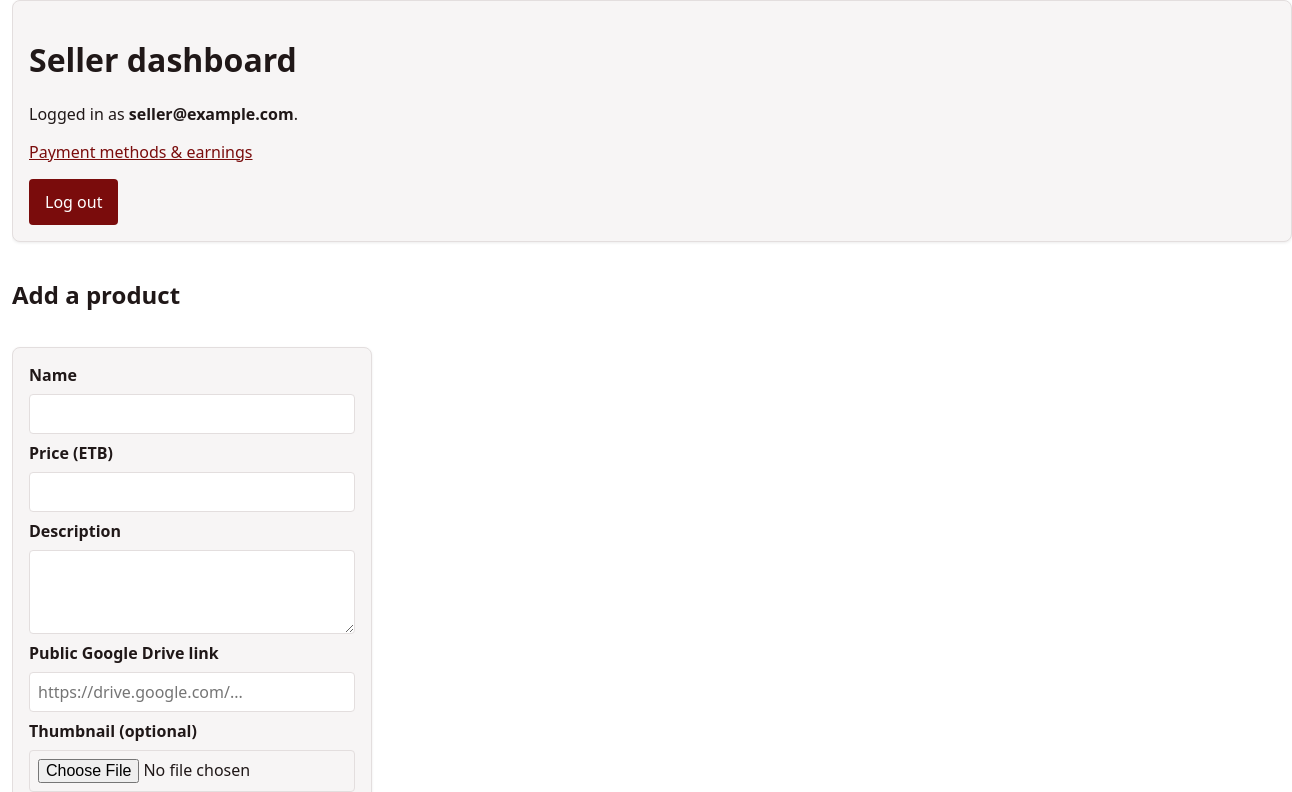
it: SellerHome › shows the backend's message when adding a product fails (non-auth error)
Type "E-book: Learn Amharic" into the field labelled "Name" at (192, 414), box [29,394,355,434]
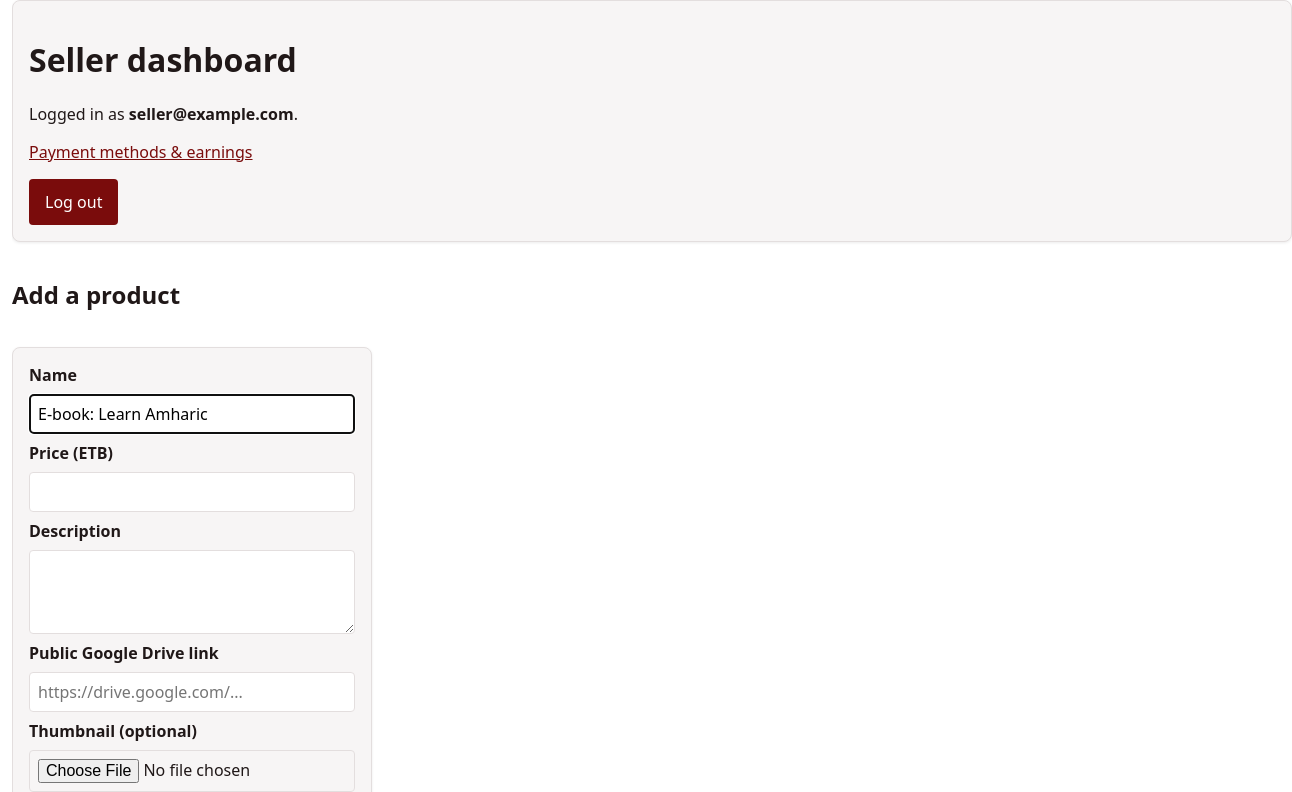
Type "150" into the number field labelled "Price (ETB)" at (192, 492), box [29,472,355,512]
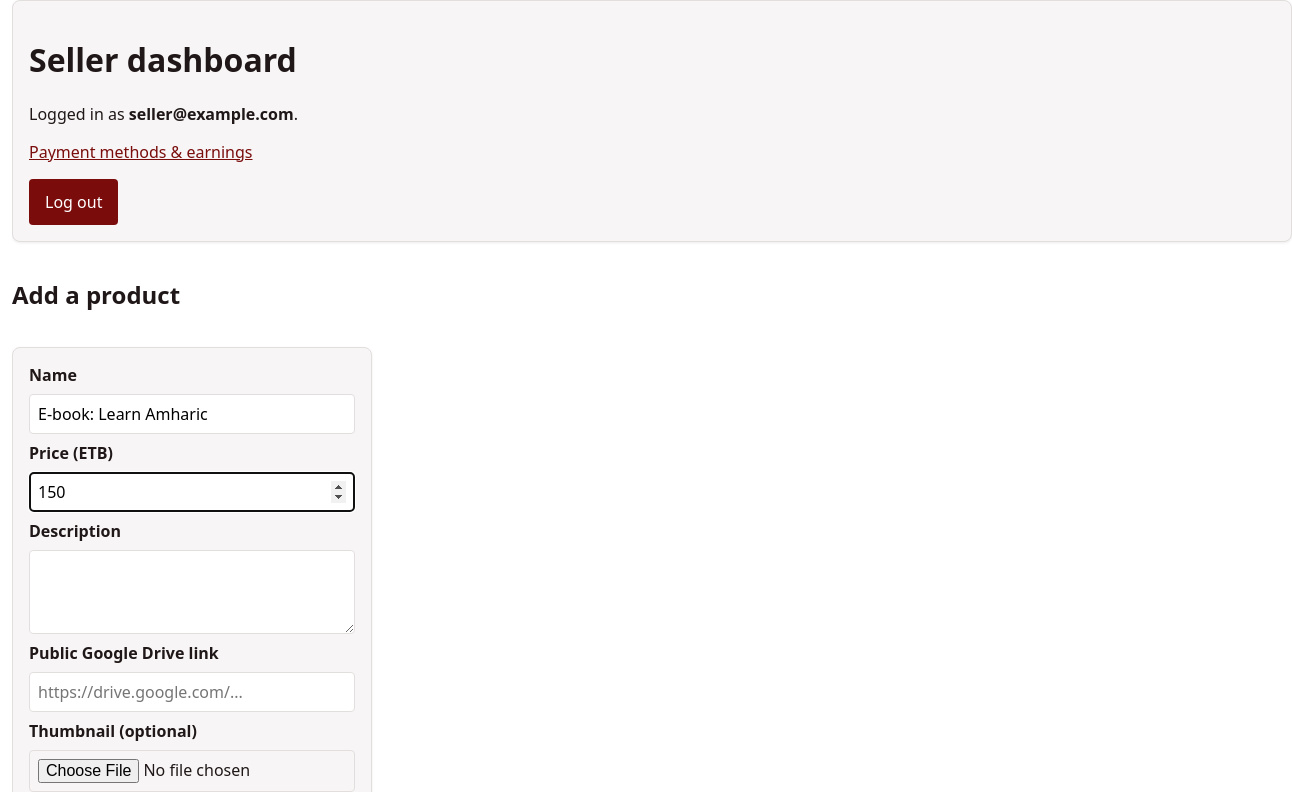
Type "https://drive.google.com/file/d/abc" into the field labelled "Public Google Drive link" at (192, 692), box [29,672,355,712]
(page scrolled)
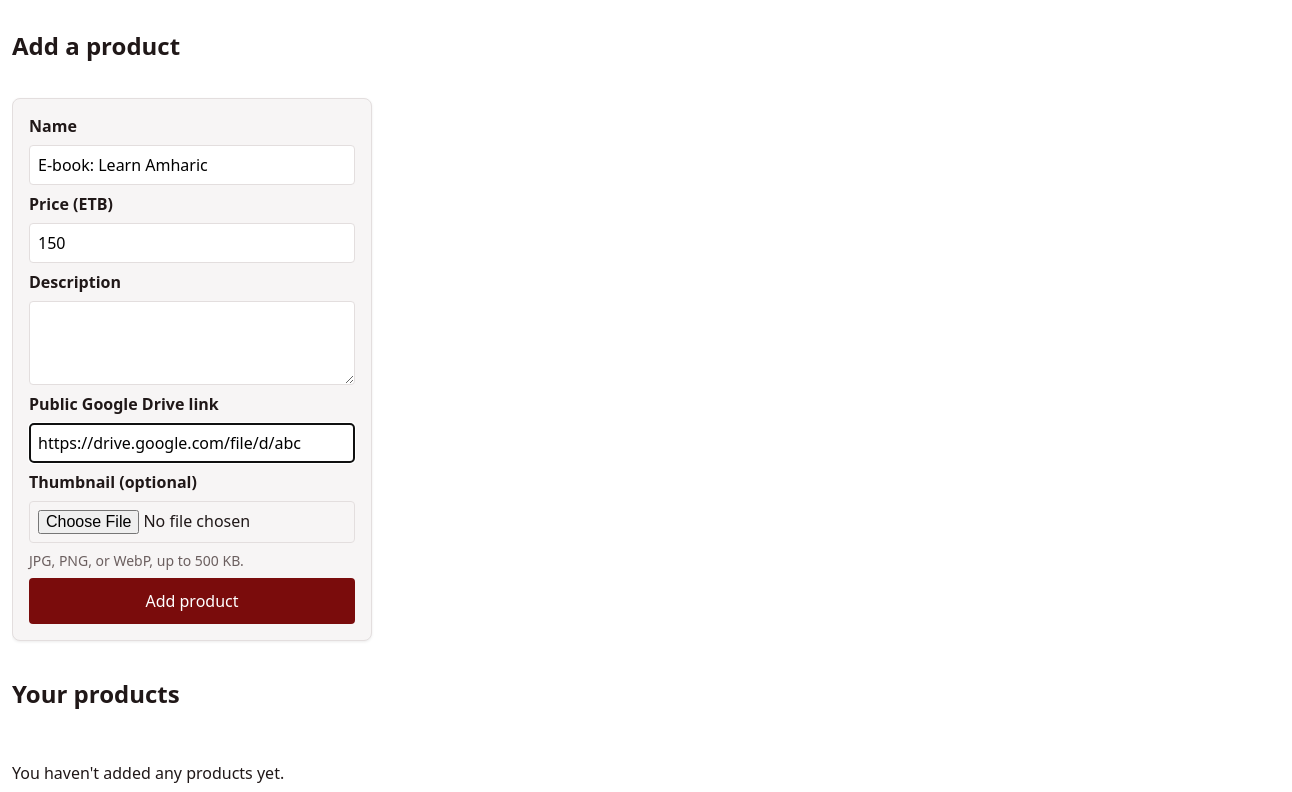
Click the button "Add product" at (192, 601), box [29,578,355,624]
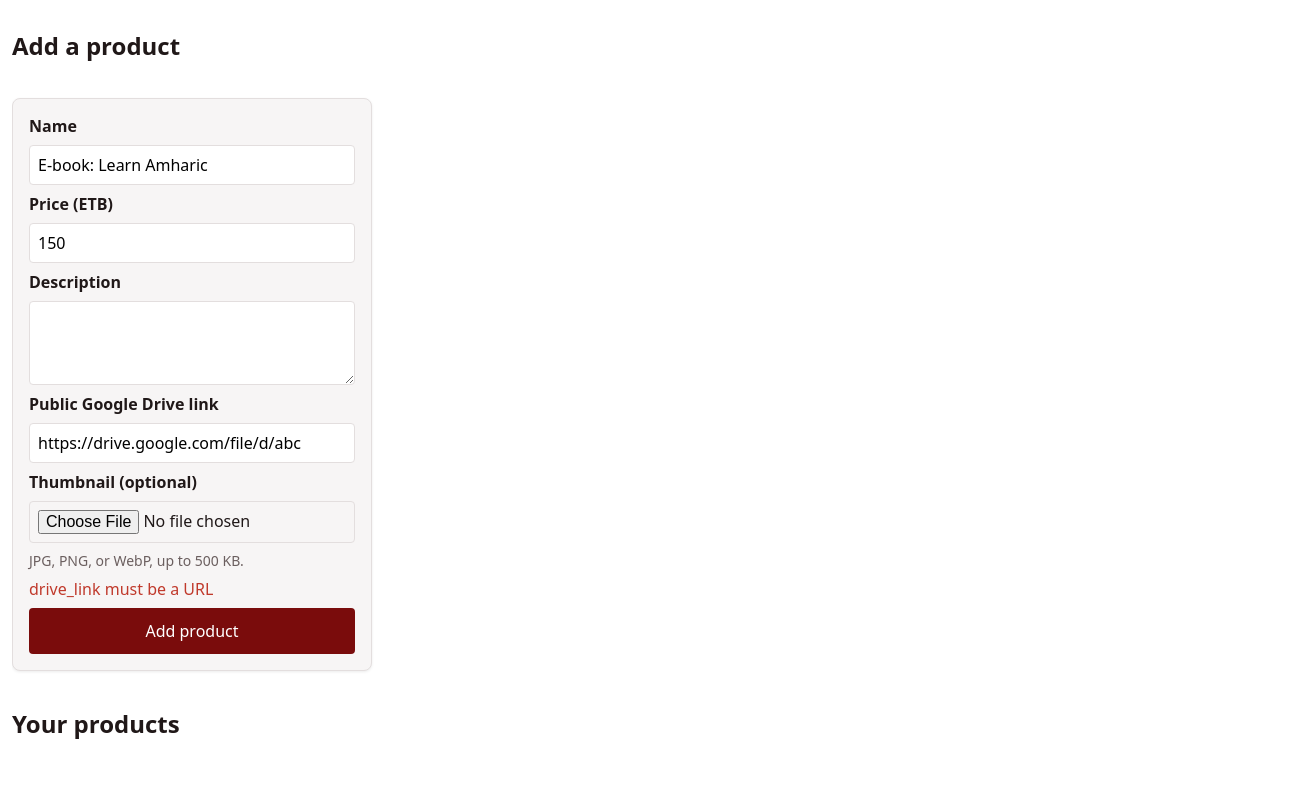
Check: the message reads "drive_link must be a URL", box [29,578,213,600]
